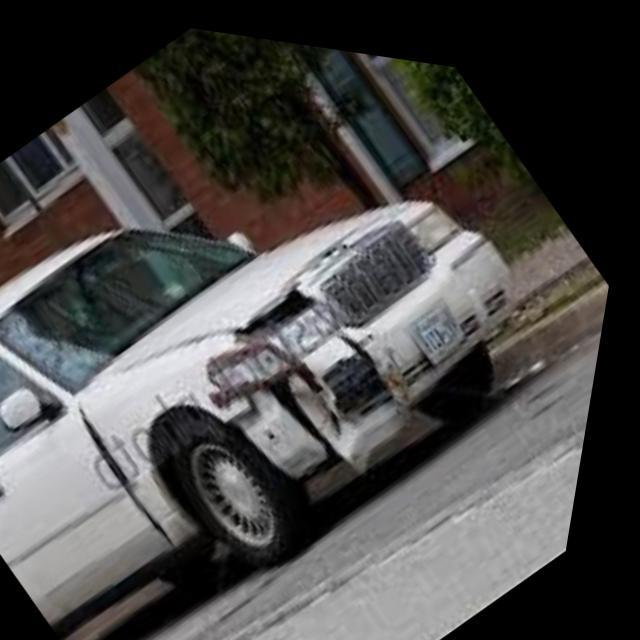crack: (88, 257, 424, 541)
